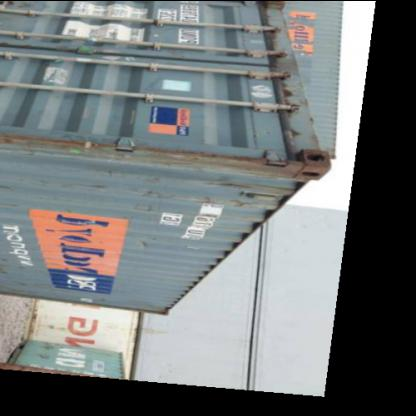Damage: (199, 174, 273, 212), (129, 168, 176, 220), (0, 242, 32, 292), (84, 178, 113, 196), (91, 288, 115, 307), (138, 233, 162, 251), (282, 83, 302, 103), (294, 122, 307, 145)
